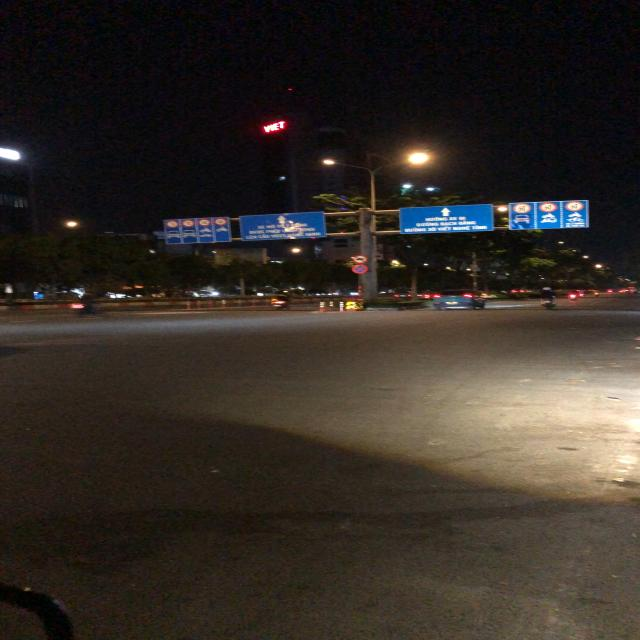Bien bao cam dung xe va do xe: (351, 264, 369, 275)
Bien bao toc do toi da cho phep: (564, 201, 585, 213), (512, 202, 532, 214), (538, 202, 558, 213), (214, 217, 229, 226), (181, 219, 195, 228), (197, 218, 211, 226), (166, 220, 178, 228)
